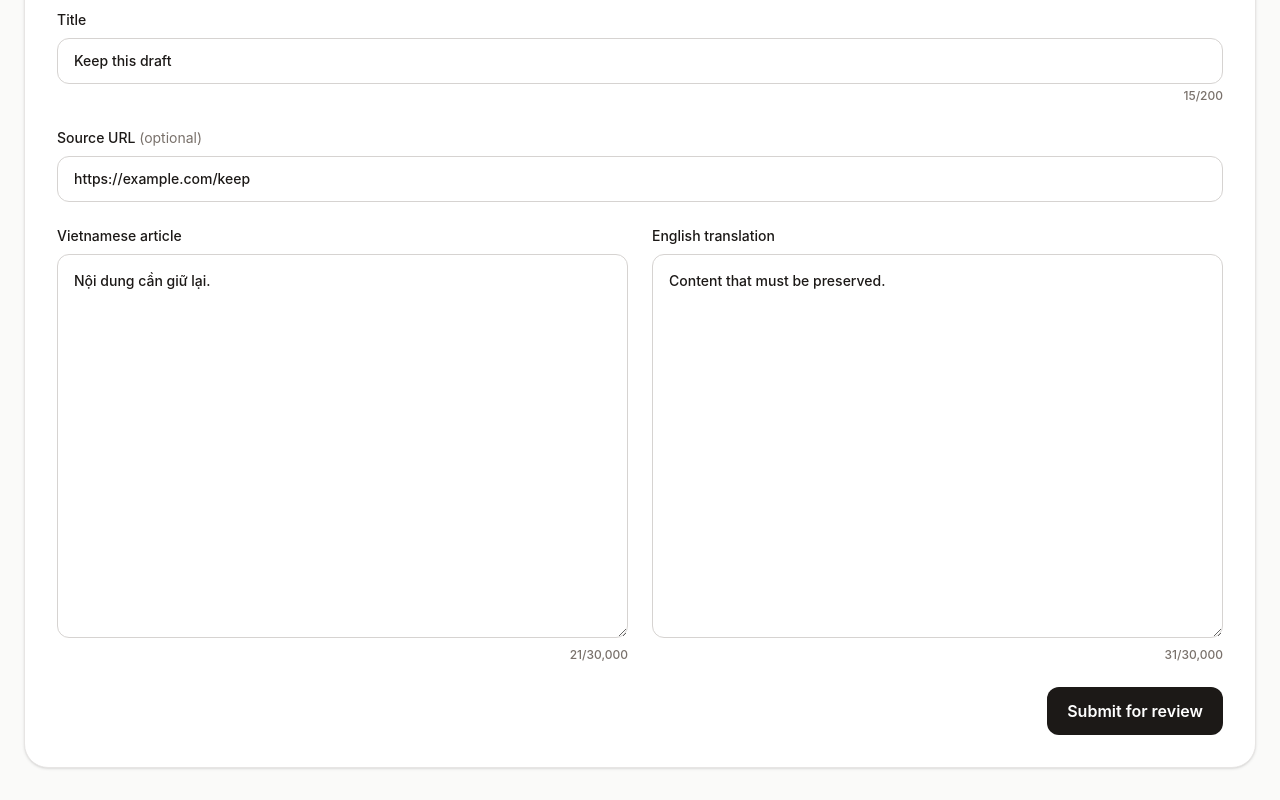
Test: failed report submission preserves the local draft
The image size is (1280, 800).
(page scrolled)
Click the button "Submit for review" at {"x": 1135, "y": 711}, box 1047,687 -> 1223,735
(page scrolled)
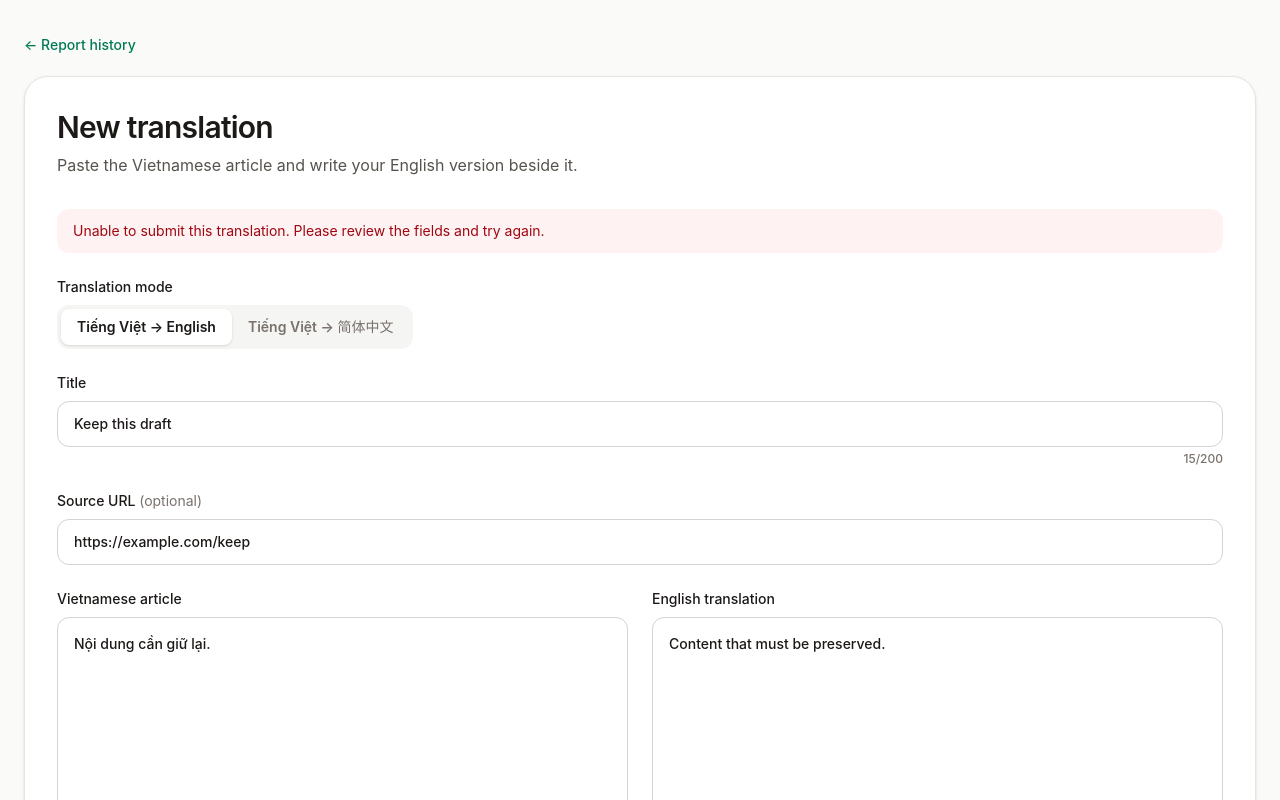
Expected: the message shows "Unable to submit this translation", 73,222 -> 545,239
